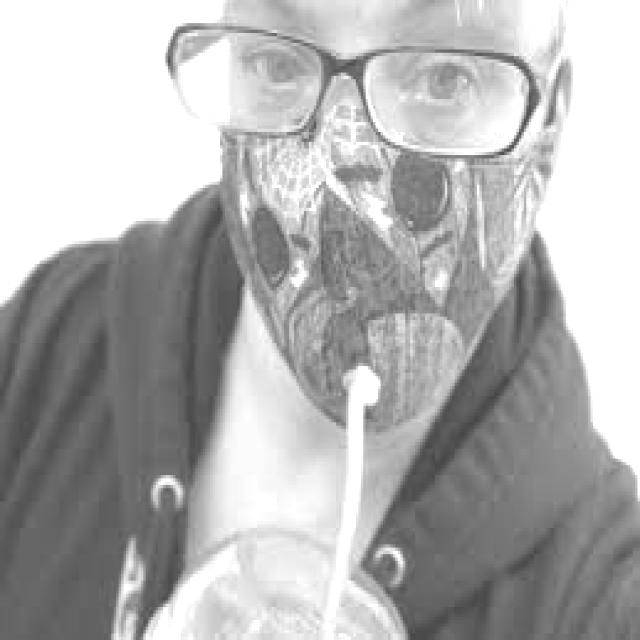fake: (196, 92, 546, 460)
real: (213, 0, 578, 447)
